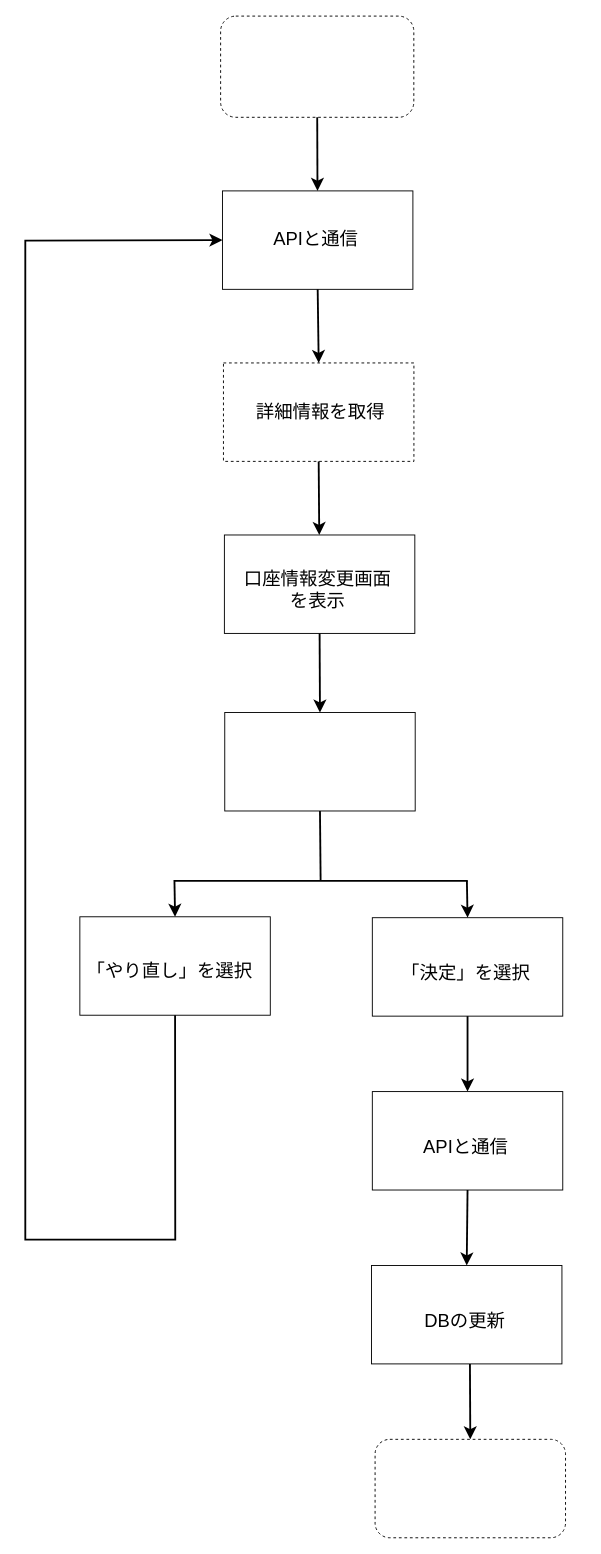
Image size: 601x1554. Some labels were removed from this diagram. The shapes that lost their labels are listed below. From the top down, each one's centre as x and y in pixels, then its label:
At point (317, 66): "DBankingInformation Change クラス 呼び出し".
At point (319, 761): "ユーザが情報を入力".
At point (470, 1488): "DMemberInformation クラスを呼び出す".
